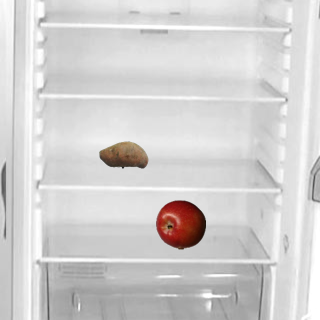Apple Braeburn: (155, 199, 205, 249)
Potato Sweet: (98, 129, 148, 179)
